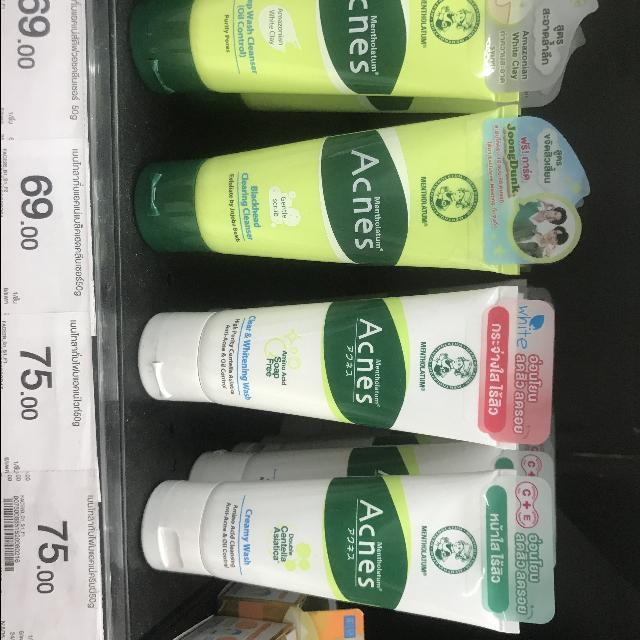Squeeze Tube: (118, 103, 605, 280), (115, 471, 576, 640), (138, 287, 608, 447), (124, 0, 577, 106)
